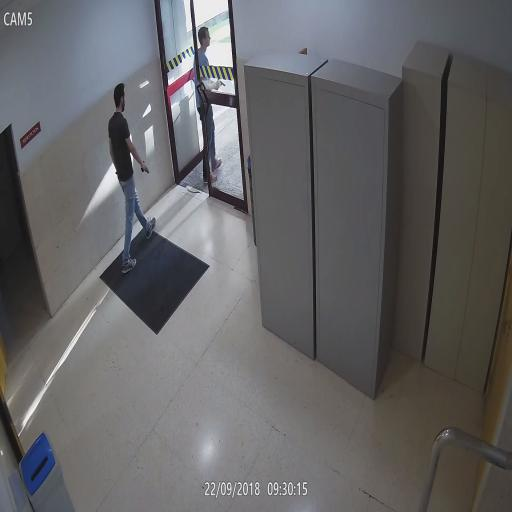Handgun: (140, 158, 150, 176), (216, 78, 226, 91)
